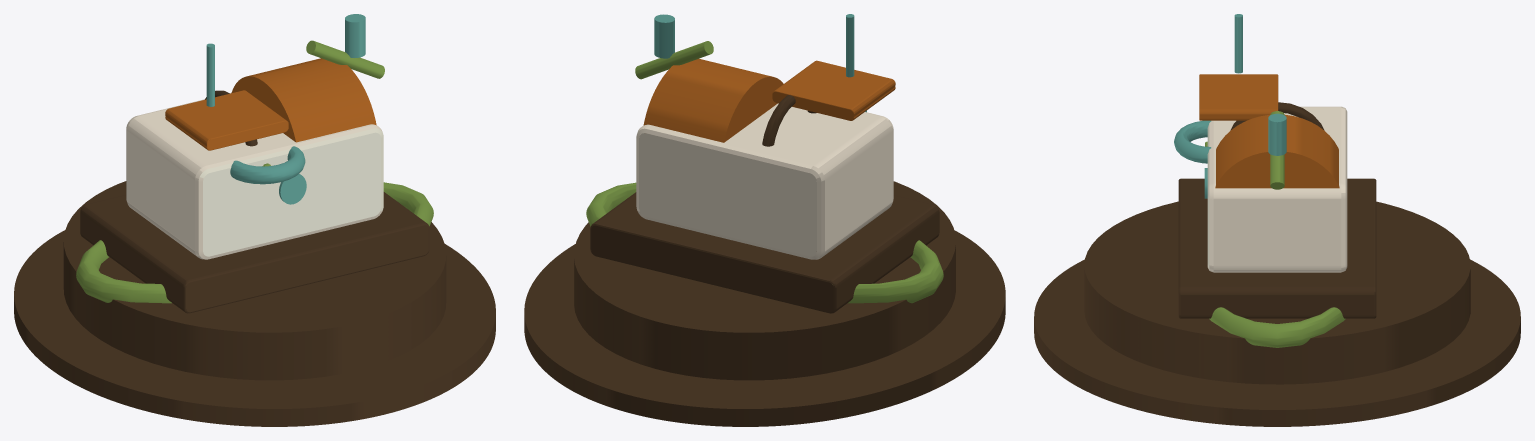
Rendered from 0203_生活中的物理图鉴_沙漏.glb.
3 renders of one model, left to right at view 1: azimuth 30°, elevation 25°; view 2: azimuth 150°, elevation 25°; view 3: azimuth 270°, elevation 25°, orthographic. The views are drawn at different scales.
Parts seen in each view (by area): view 1: card_0203; view 2: card_0203; view 3: card_0203.
Boxes of the visible parts, x1,y1,x2,y2 form: card_0203: (14, 14, 495, 426); card_0203: (524, 14, 1005, 426); card_0203: (1034, 14, 1520, 426).
Size of the model in its own units: 1.39 by 1 by 1.53.
